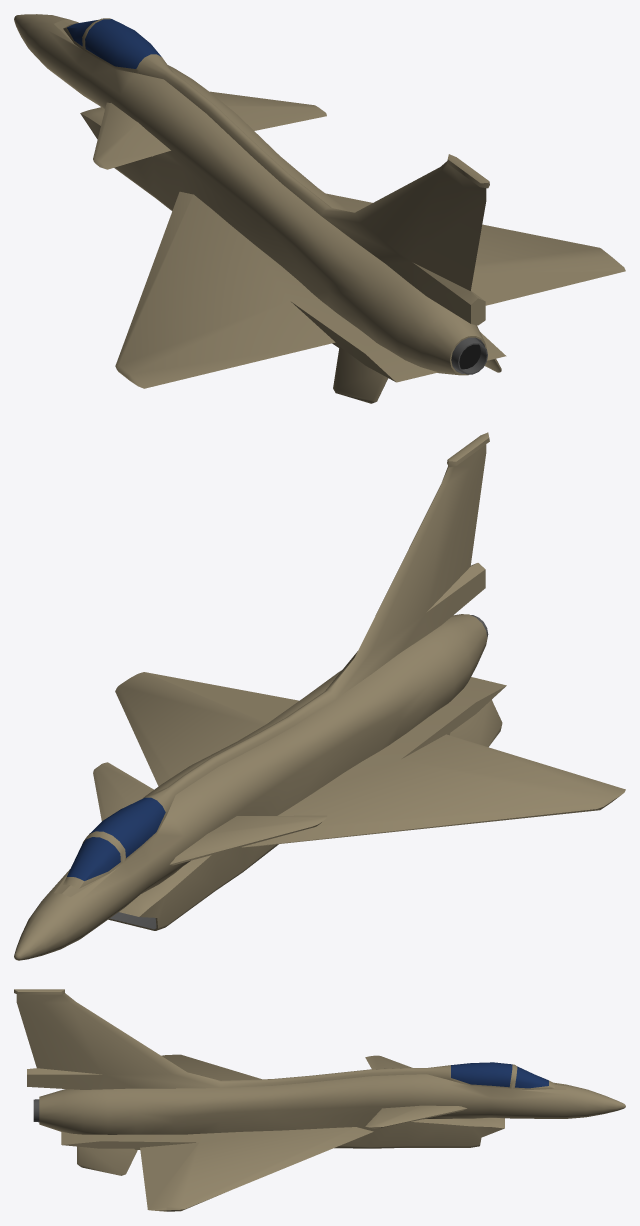
3 views of the same model, one above another, from view 1: azimuth 30°, elevation 25°; view 2: azimuth 150°, elevation 25°; view 3: azimuth 270°, elevation 25° (orthographic). The views are drawn at different scales.
Visible parts, largest first — view 1: J10A; view 2: J10A; view 3: J10A.
Boxes of the visible parts, x1,y1,x2,y2 form: J10A: [14, 14, 625, 403]; J10A: [14, 432, 625, 960]; J10A: [14, 989, 625, 1211].
Bounding box in the file's own units: 8.69 × 4.33 × 14.6.
